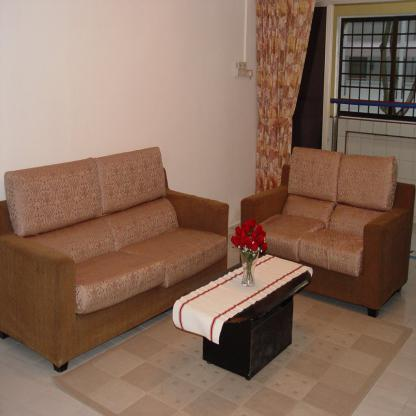meja: (178, 256, 306, 362)
sova: (2, 148, 225, 372), (242, 152, 416, 317)
tanaman: (228, 217, 268, 259)
